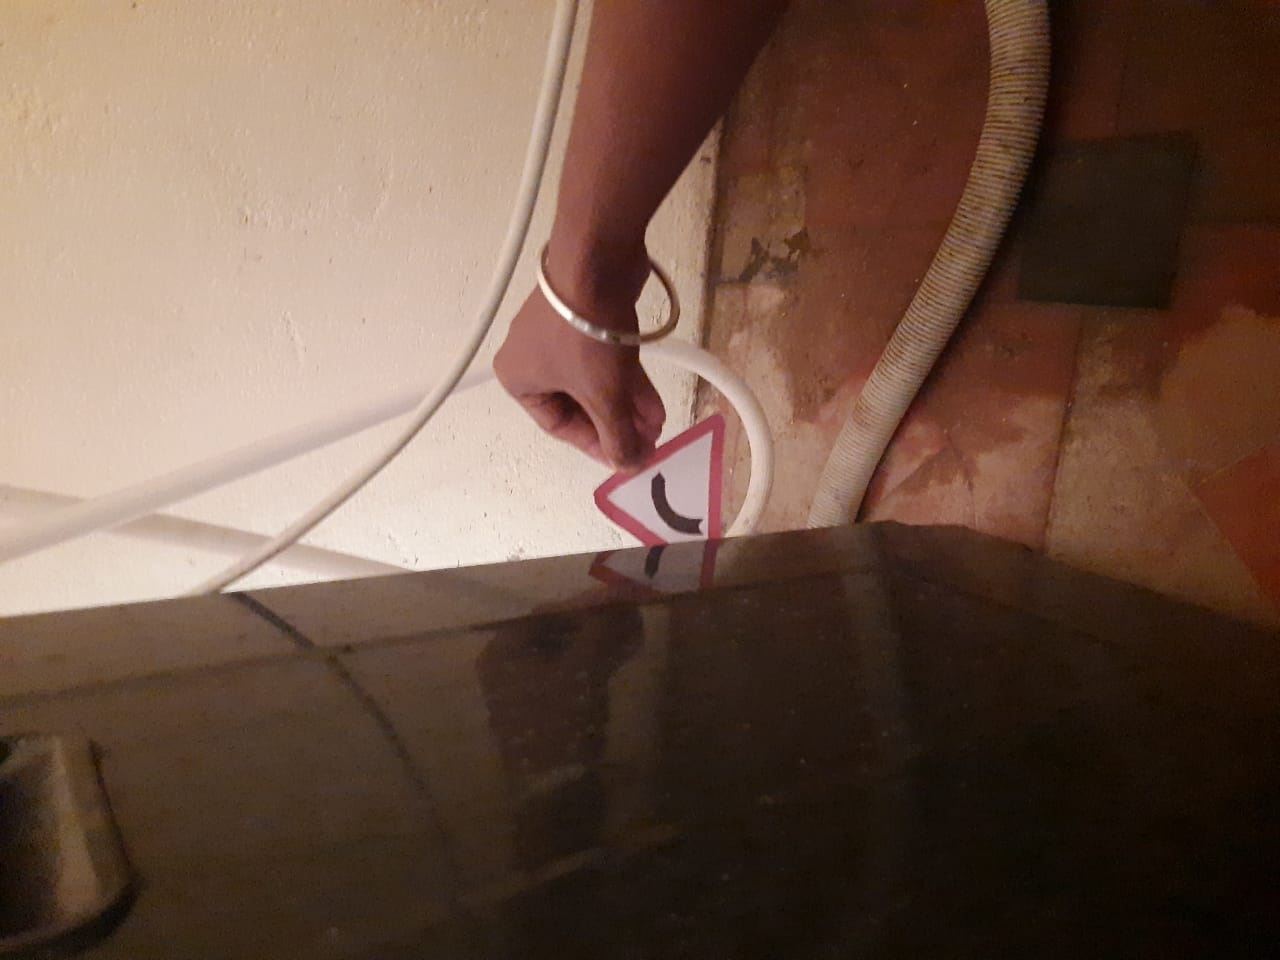RIGHT CURVE: (558, 381, 767, 558)
